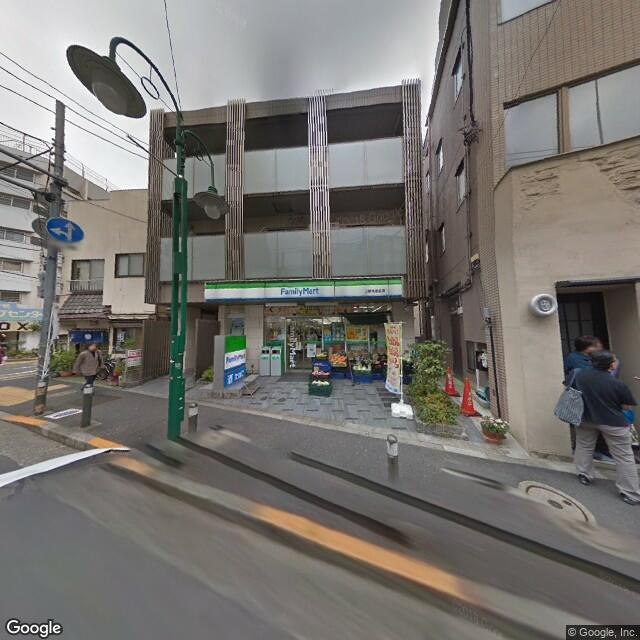family_mart: (202, 272, 408, 307), (223, 332, 247, 384)
